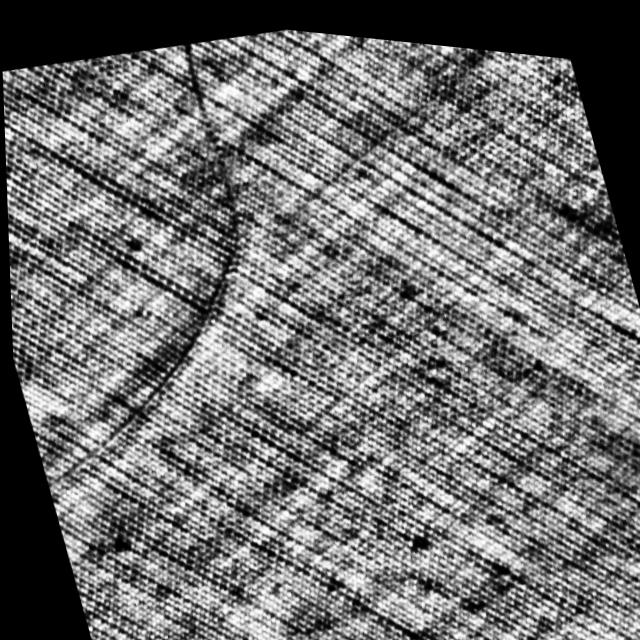Stitch: (1, 20, 314, 521)
